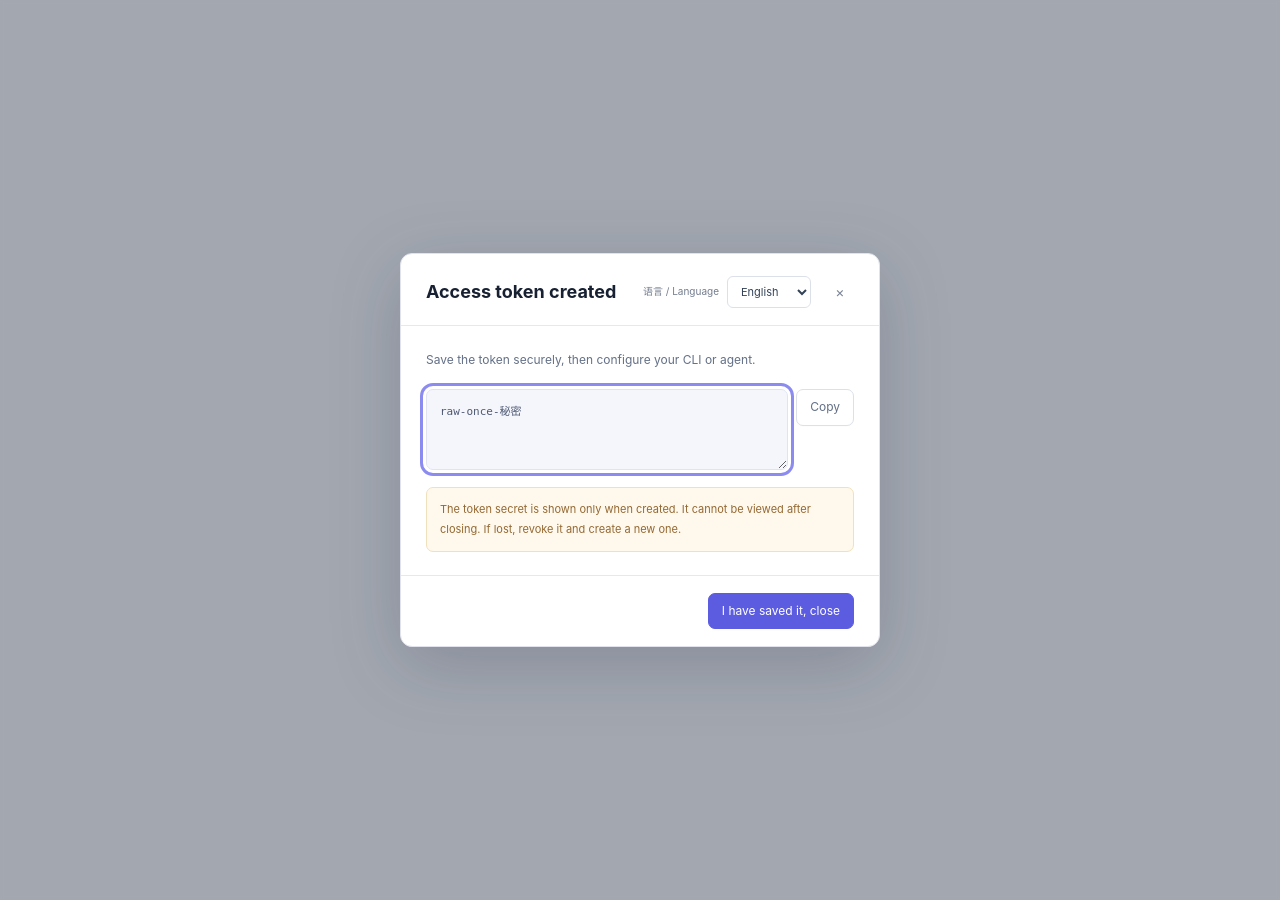
Test: authentication language changes › retranslates token copy failures and close warnings while keeping the one-time value
Click the button "Copy": [825, 408] box [796,389,854,426]
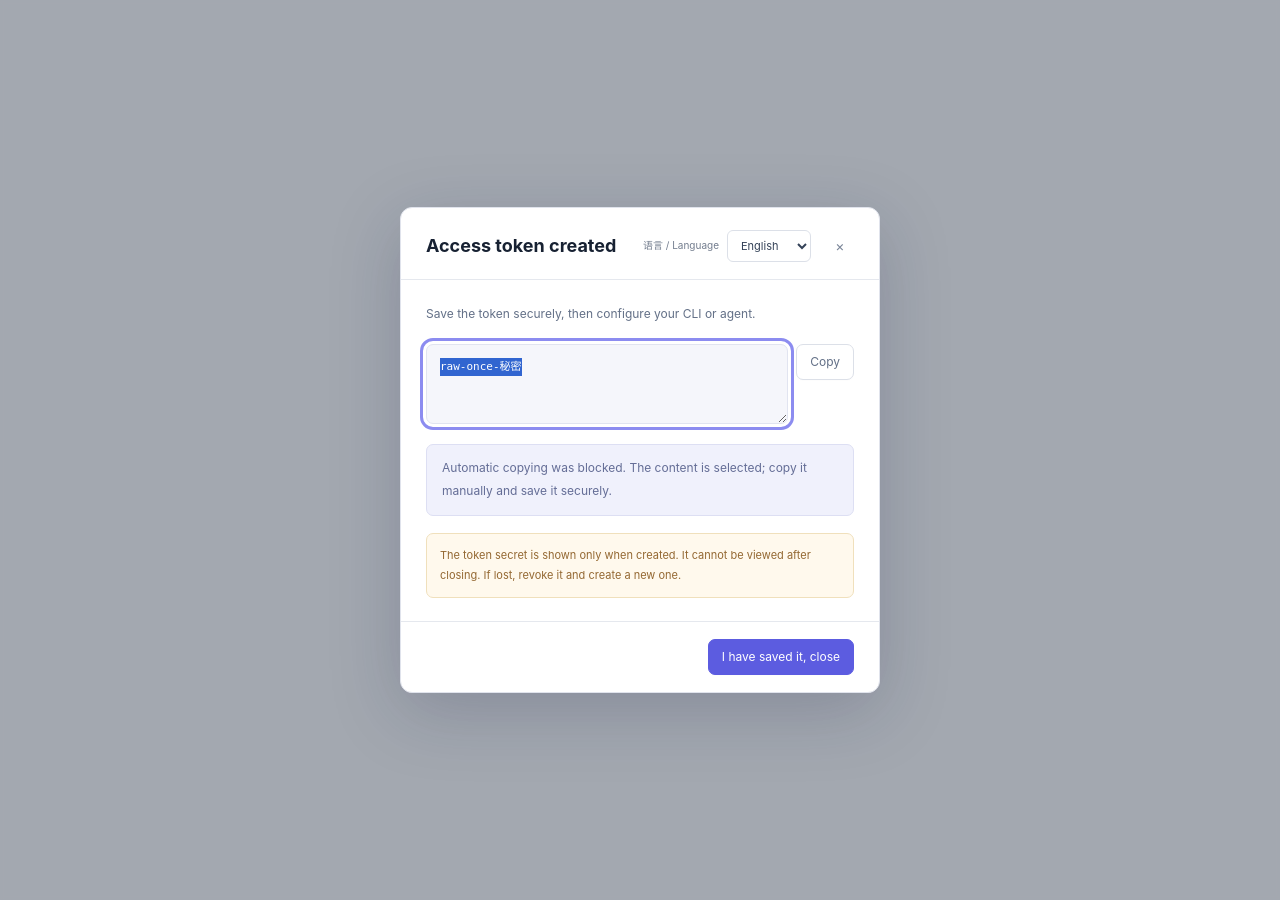
Now the text "Automatic copying was blocked. The content is selected; copy it manually and save it securely." is shown, box [442,460,807,498]
Click the button named "Close dialog": [840, 246] box [826,232,854,260]
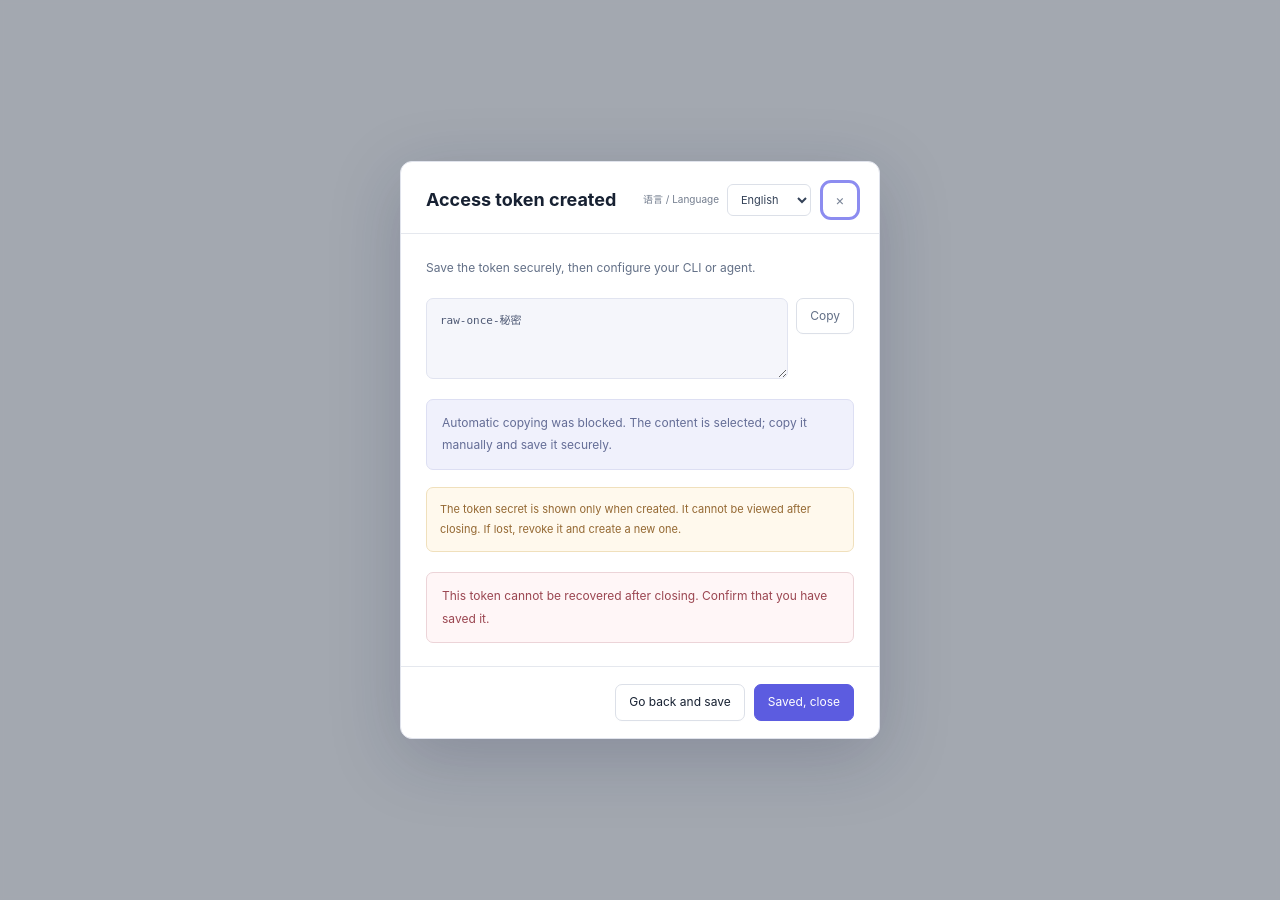
Now the message "This token cannot be recovered after closing. Confirm that you have saved it." is shown, box [426,572,854,643]
Select "简体中文" in the dropdown labelled "语言 / Language": [769, 200] box [727,184,811,216]
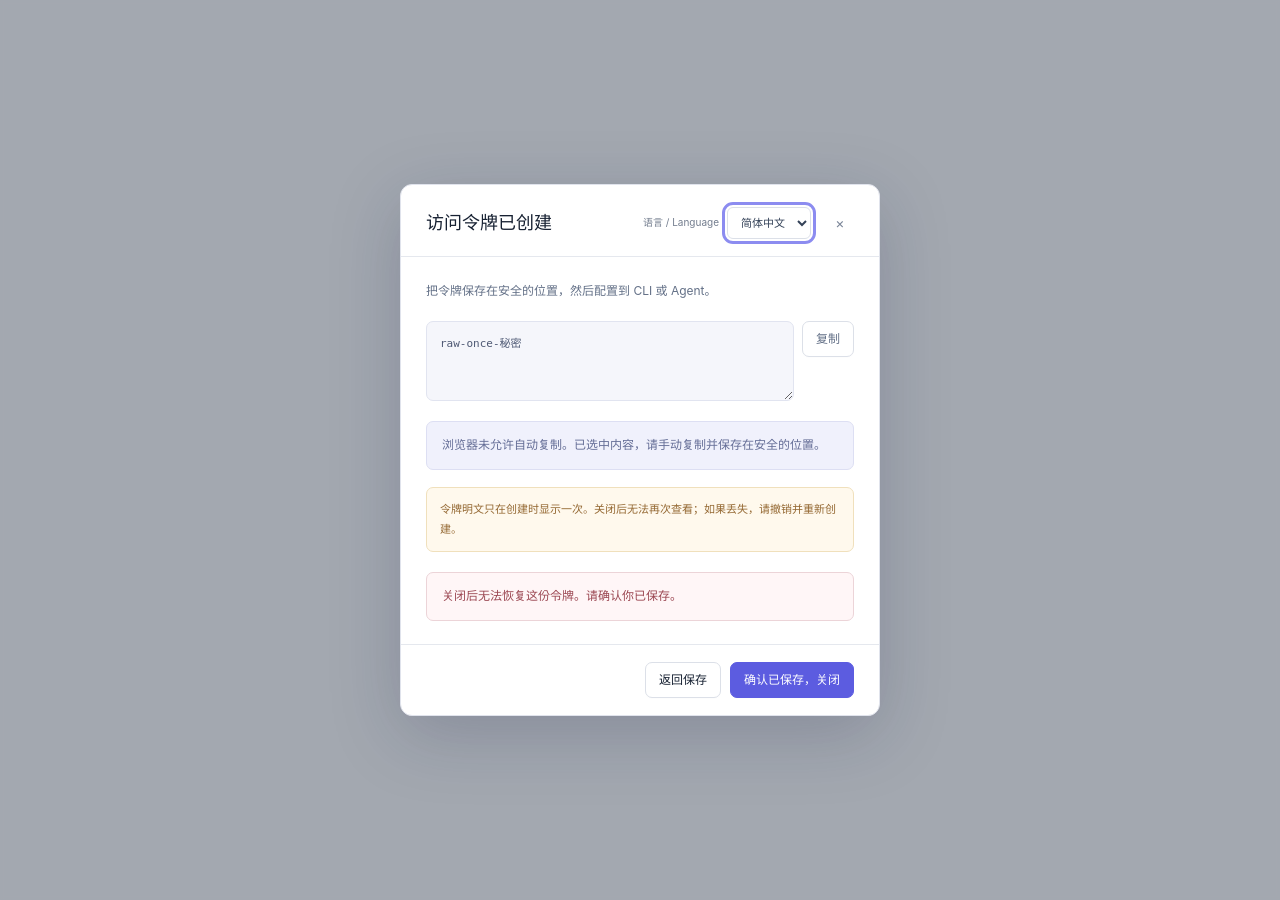
Expected: the text box holds "raw-once-秘密", [426,321,794,401]
Now the text "浏览器未允许自动复制。已选中内容，请手动复制并保存在安全的位置。" is shown, box [426,421,854,470]
Now the message "关闭后无法恢复这份令牌。请确认你已保存。" is shown, box [426,572,854,621]
